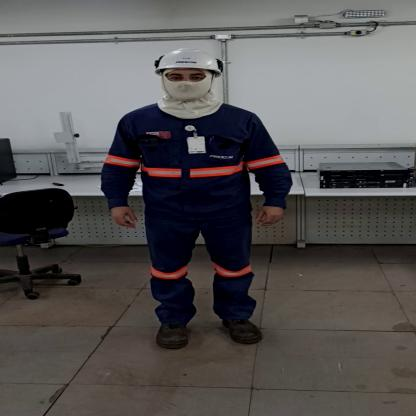Balaclava: (154, 70, 226, 120)
Capacete: (148, 48, 228, 74)
